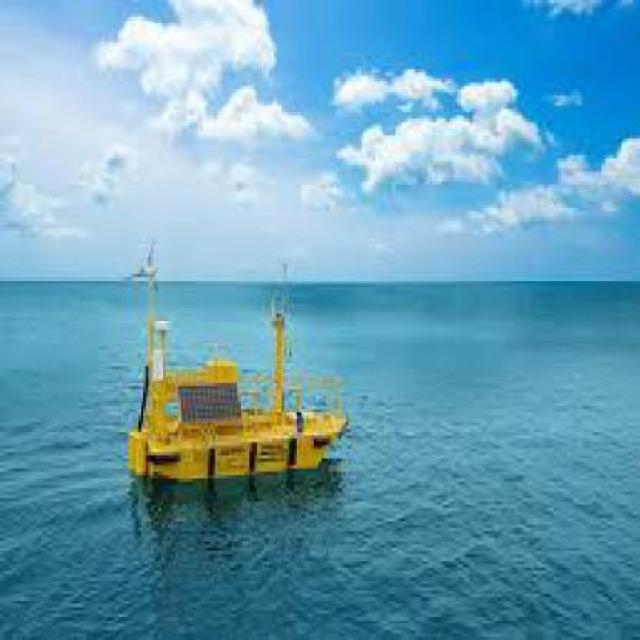buoy: (112, 232, 364, 499)
